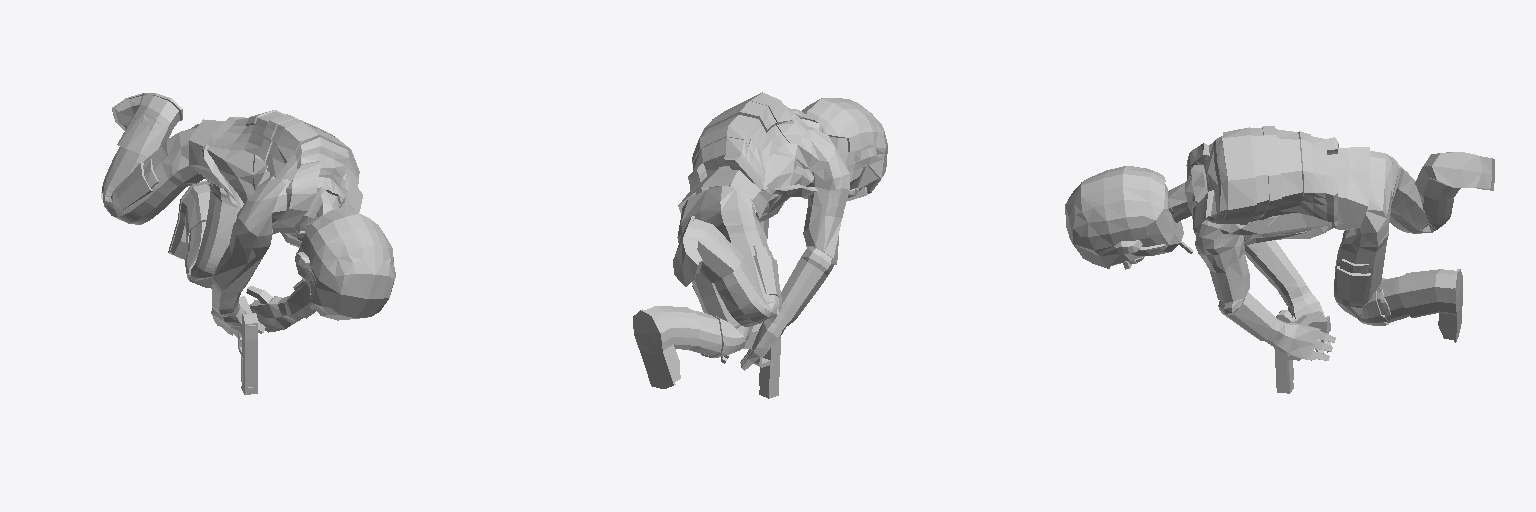
Rendered from frame_0043.obj.
The picture shows the model from 3 angles: view 1: azimuth 30°, elevation 25°; view 2: azimuth 150°, elevation 25°; view 3: azimuth 270°, elevation 25°; orthographic projection.
Parts seen in each view (by area): view 1: Body, Gun; view 2: Body, Gun; view 3: Body, Gun.
Boxes of the visible parts, x1,y1,x2,y2 form: Body: [101, 93, 395, 337]; Gun: [238, 296, 257, 394]; Body: [633, 92, 887, 388]; Gun: [742, 322, 780, 398]; Body: [1065, 126, 1494, 360]; Gun: [1274, 310, 1330, 393].
Bounding box in the file's own units: 1.43 × 2.39 × 3.4.